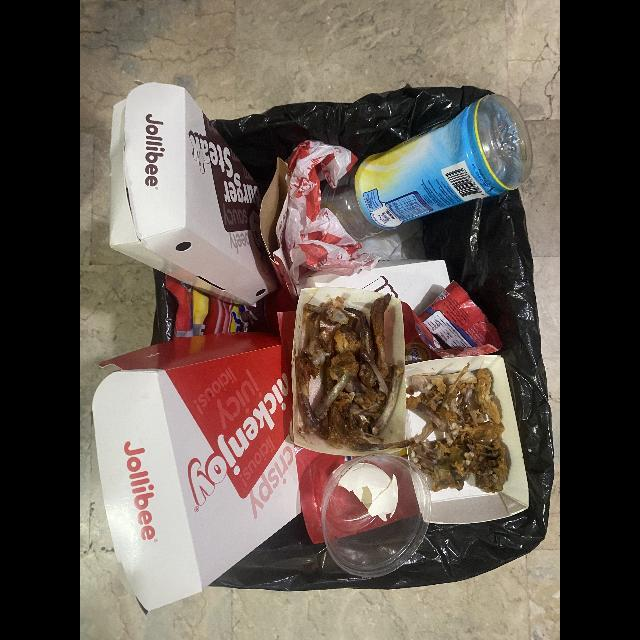biowaste: (297, 294, 411, 452), (395, 362, 513, 494), (338, 462, 397, 522)
paper: (92, 332, 303, 615), (284, 140, 385, 284)
plastic: (318, 95, 532, 241)
wrapper: (165, 272, 293, 343), (404, 283, 504, 362)
